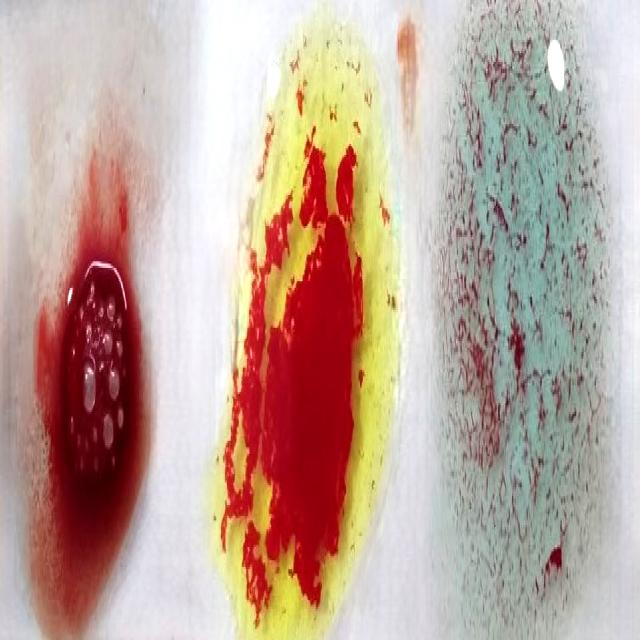A: (446, 16, 602, 640)
B: (220, 51, 396, 628)
D: (12, 67, 150, 634)
